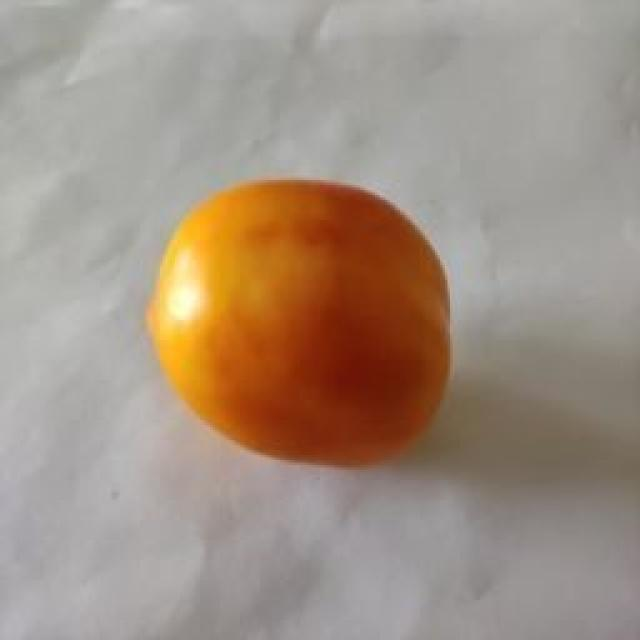unripe: (192, 128, 472, 448)
